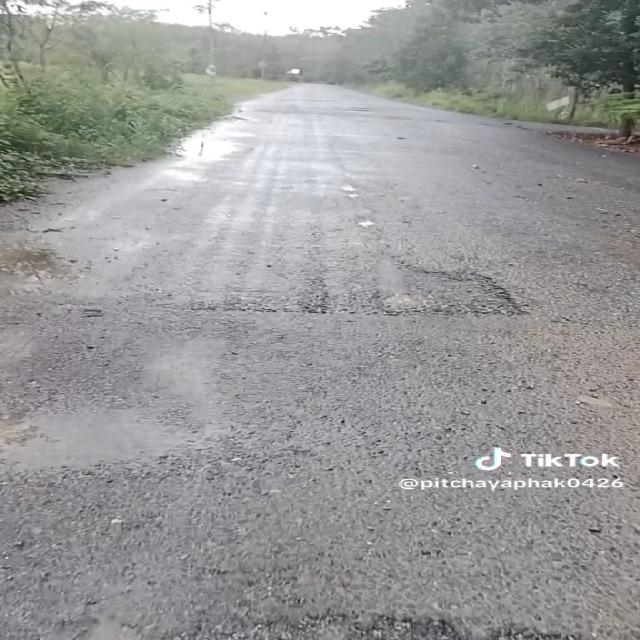Poth-hole: (288, 204, 490, 373)
